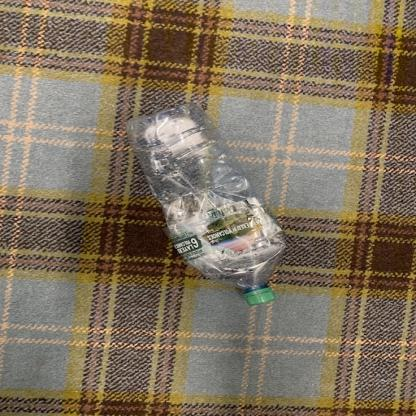trash: (122, 105, 290, 309)
